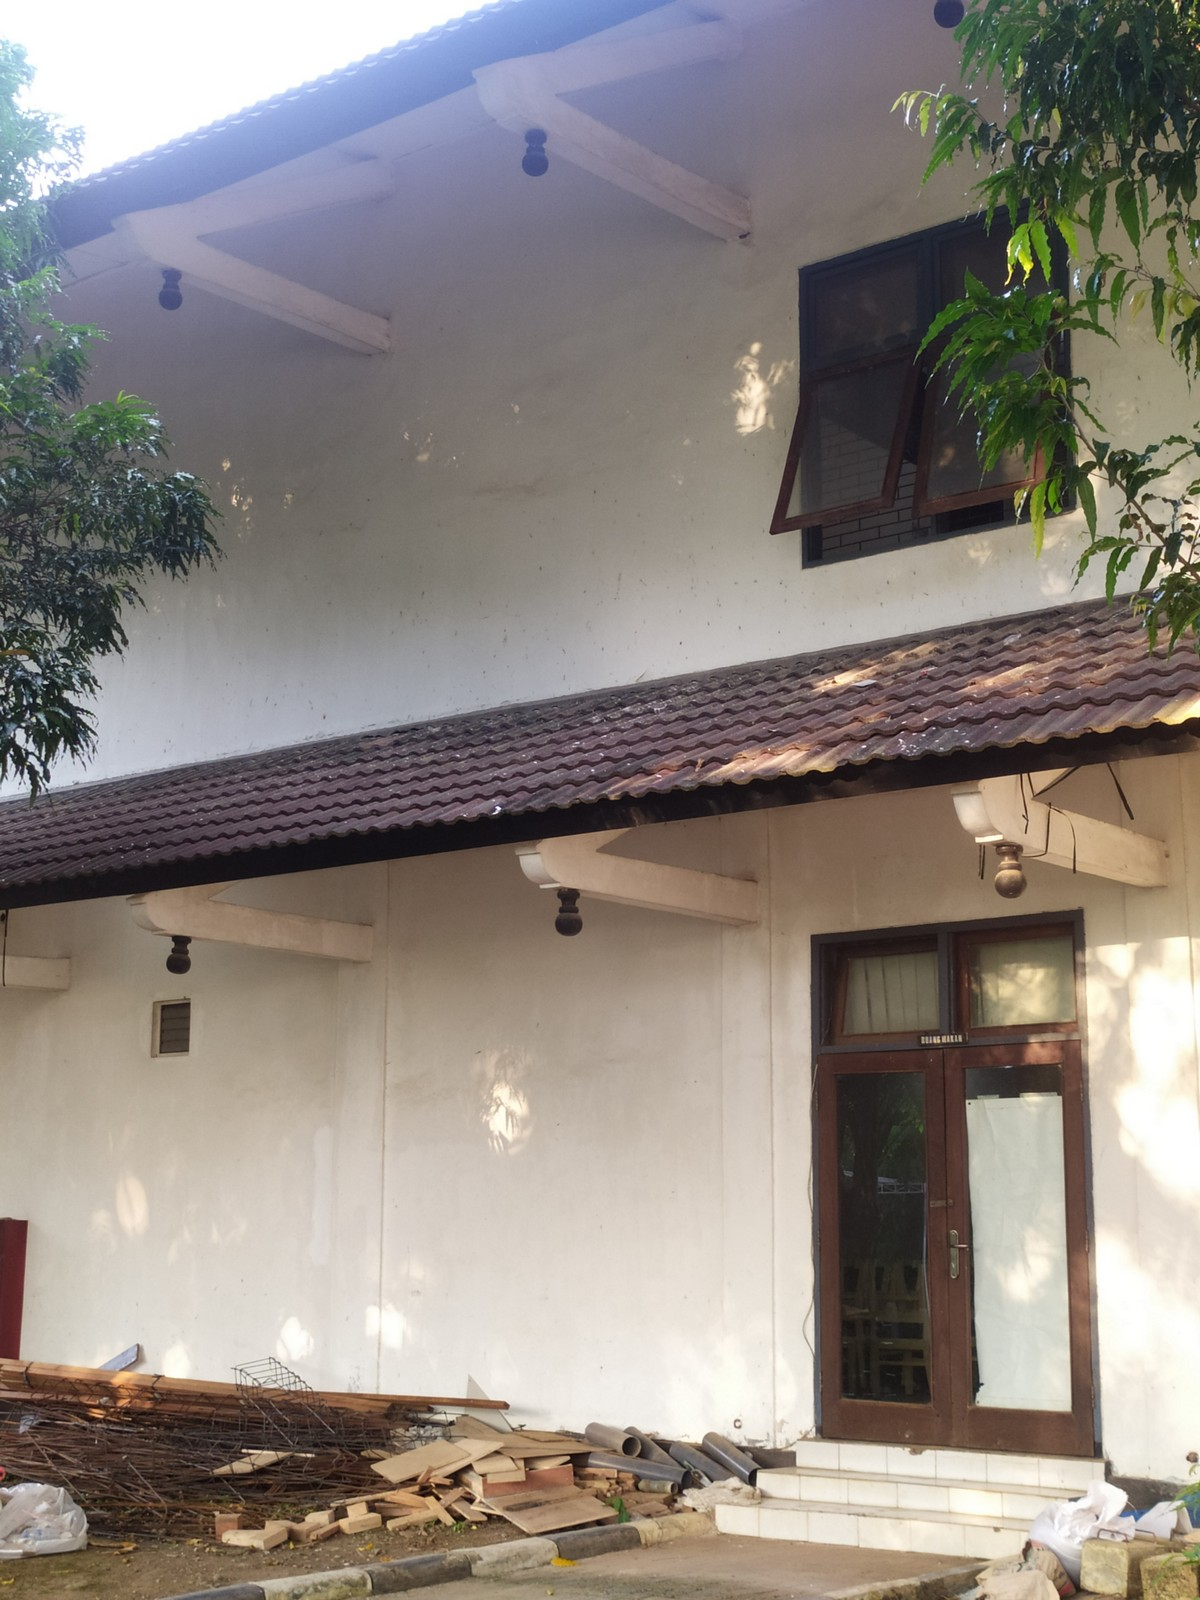concrete beam: (199, 253, 410, 370), (570, 117, 765, 239), (599, 848, 776, 932), (1025, 808, 1179, 898), (198, 900, 389, 970)
